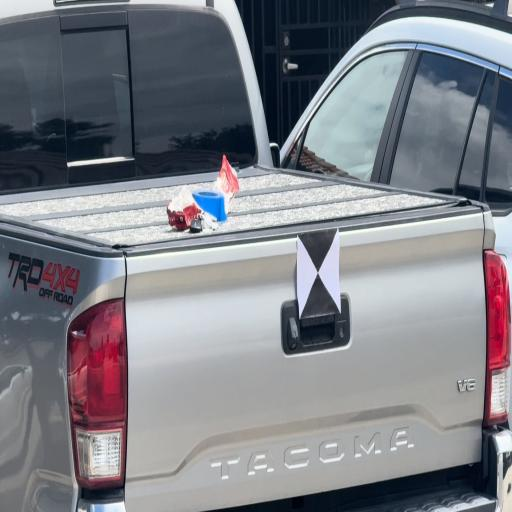target: (299, 234, 341, 313)
